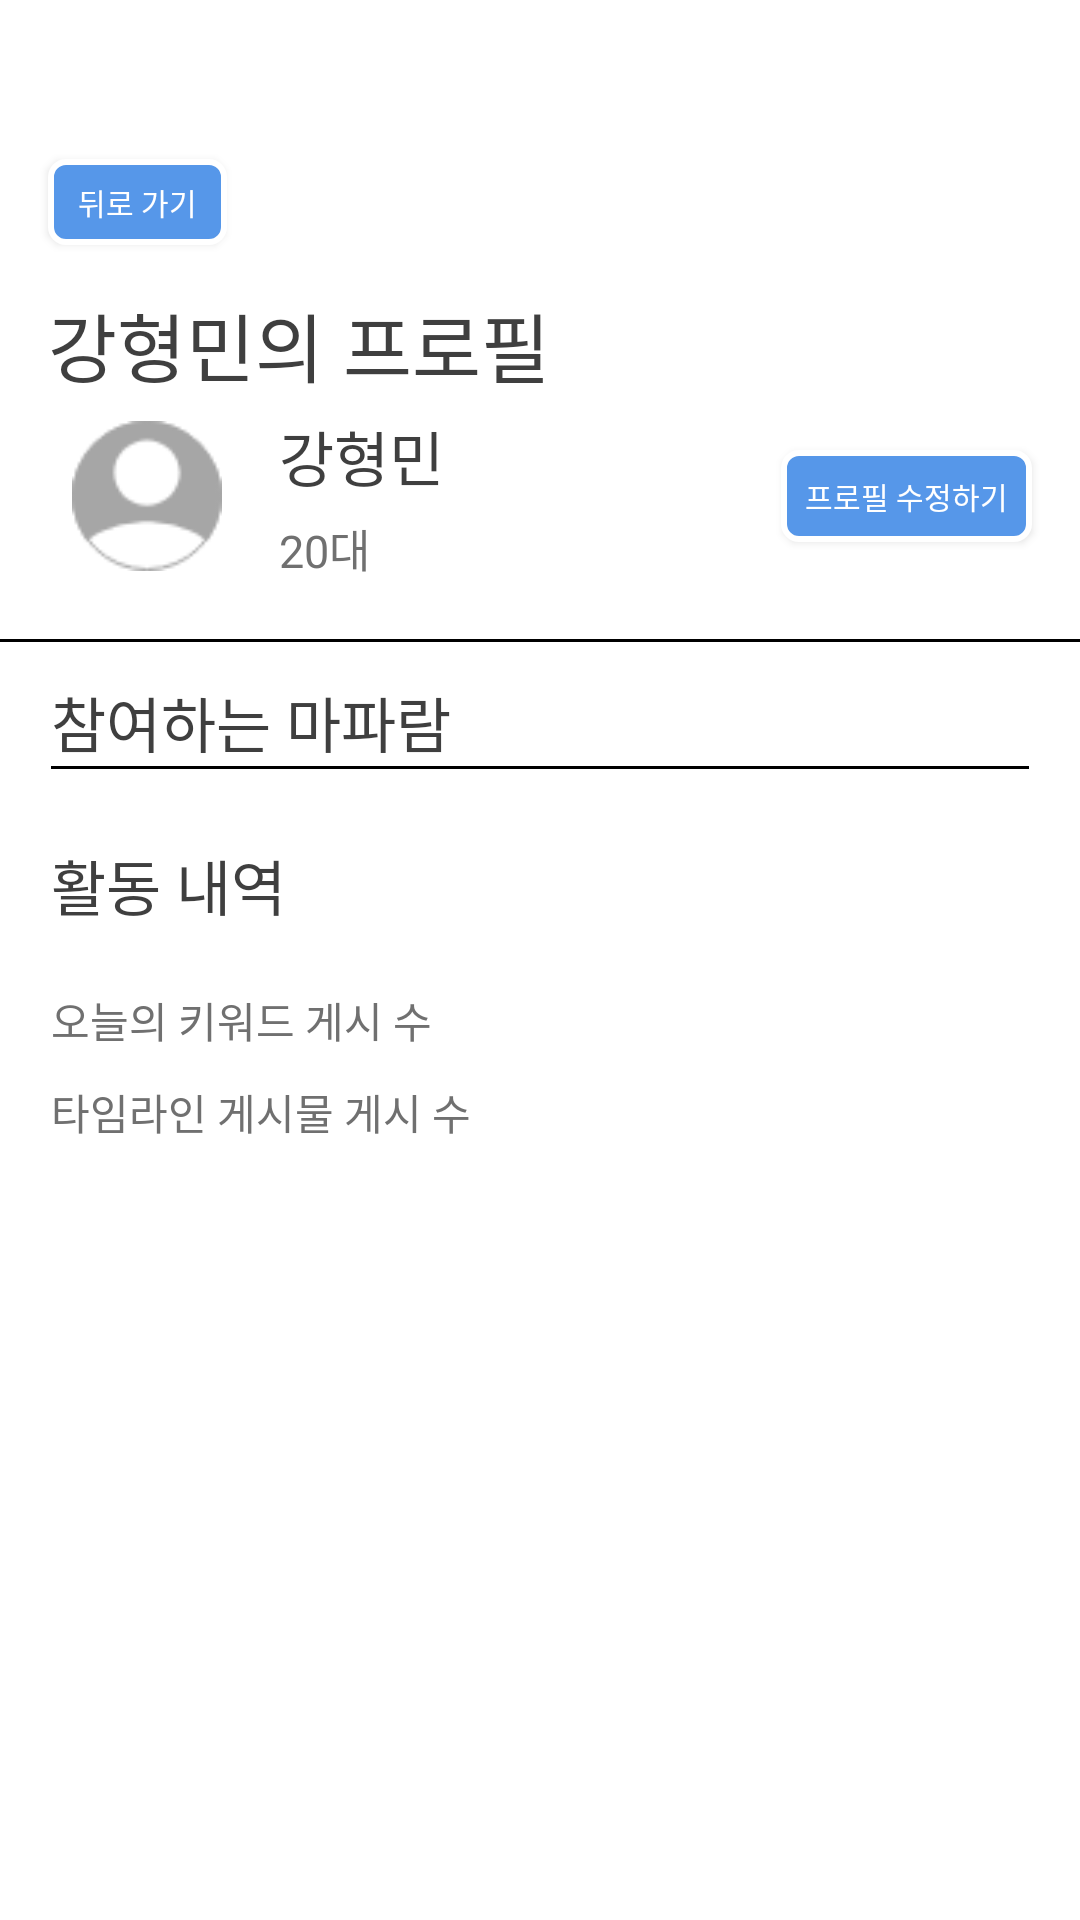

Where to tap for icons on this 1080px×1920px app screen, as [x,y]:
profile: [147,496]
